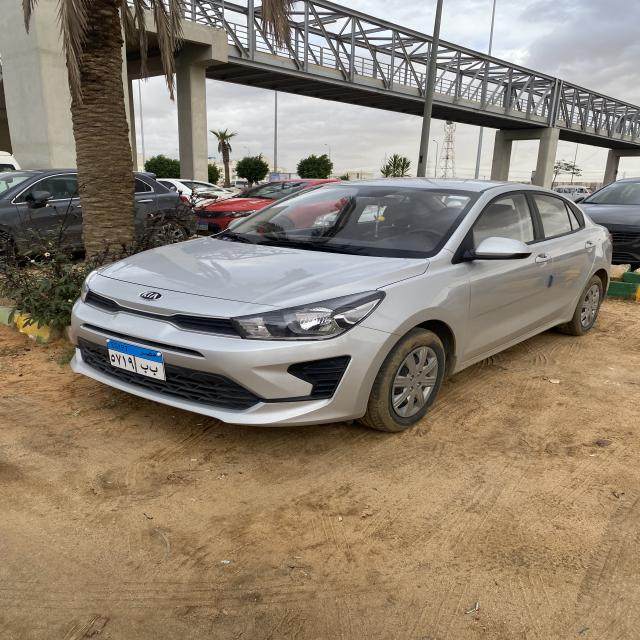License Plate: (106, 338, 166, 381), (197, 222, 208, 230)
